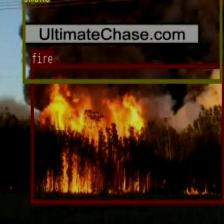fire: (30, 64, 224, 203)
smoke: (22, 0, 222, 83)
